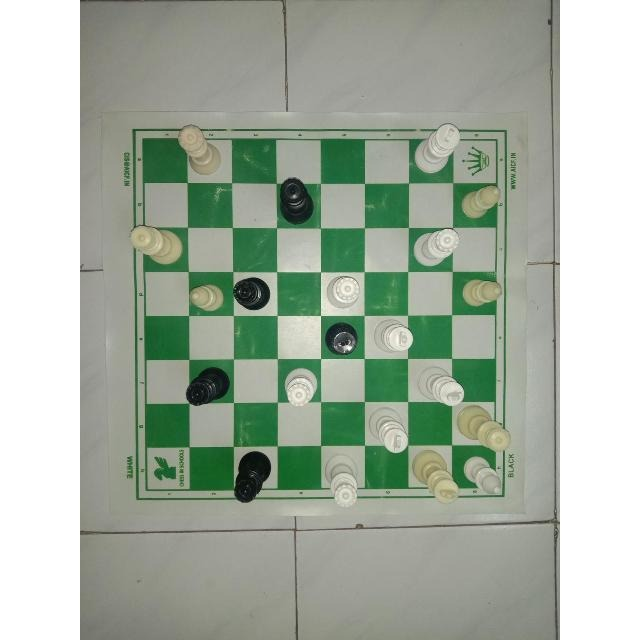black-king: (321, 320, 363, 360)
black-queen: (231, 448, 274, 504), (179, 364, 233, 408), (275, 175, 317, 229), (231, 274, 273, 313)
white-bishop: (461, 453, 507, 501), (459, 184, 507, 222), (461, 274, 505, 311), (183, 279, 227, 313)
white-king: (410, 447, 464, 507), (412, 118, 464, 178), (412, 361, 468, 409), (362, 400, 409, 456), (371, 315, 415, 355)
white-queen: (456, 405, 514, 455), (122, 222, 186, 266), (173, 120, 223, 176), (321, 452, 366, 513), (412, 224, 462, 270), (277, 361, 319, 409), (323, 271, 363, 311)
